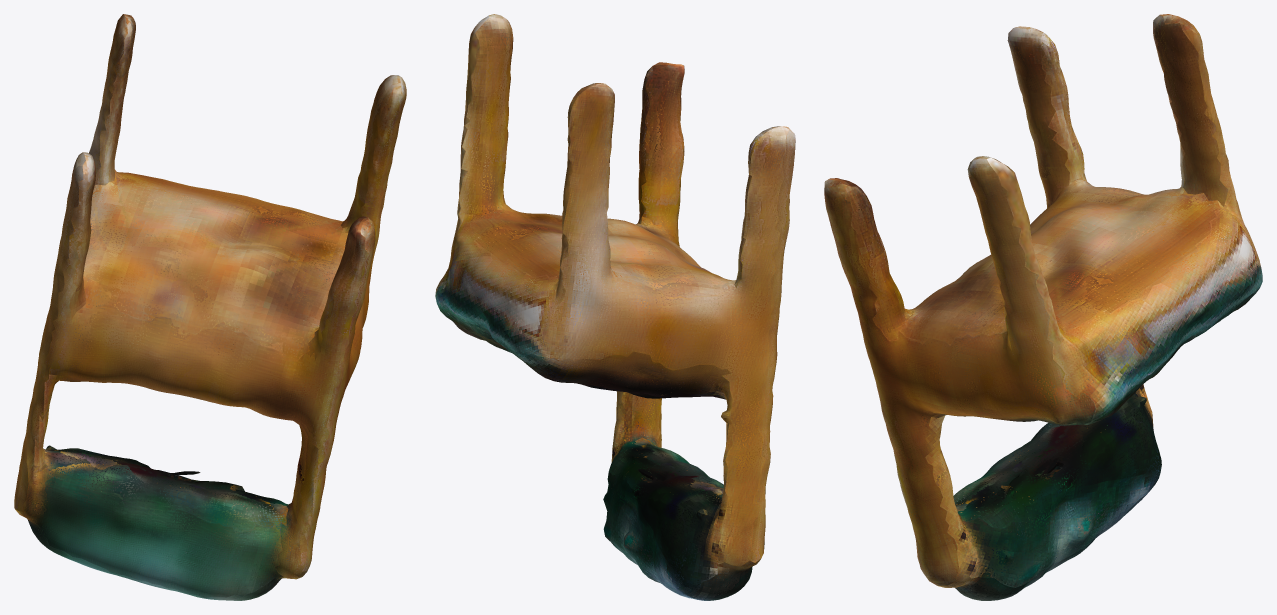
Rendered from 6_chair.glb.
The picture shows the model from 3 angles, left to right: view 1: azimuth 30°, elevation 25°; view 2: azimuth 150°, elevation 25°; view 3: azimuth 270°, elevation 25°; orthographic projection. The views are drawn at different scales.
Parts seen in each view (by area): view 1: 6_chair.obj; view 2: 6_chair.obj; view 3: 6_chair.obj.
Boxes of the visible parts, left/top/right/bottom form: 6_chair.obj: left=14, top=14, right=406, bottom=600; 6_chair.obj: left=435, top=14, right=795, bottom=600; 6_chair.obj: left=824, top=14, right=1262, bottom=600.
Size of the model in its own units: 0.785 by 1.19 by 0.833.
Materials: 1 (1 with a texture image).
